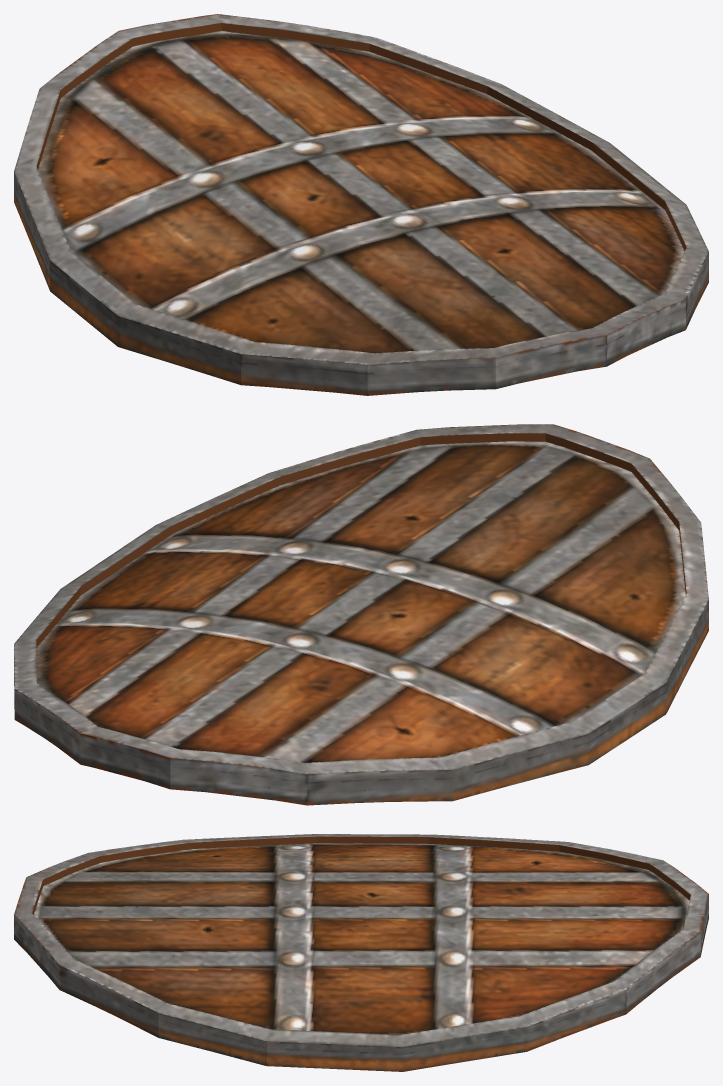
Rendered from item_mm9_10142.glb.
3 views of the same model, one above another, from view 1: azimuth 30°, elevation 25°; view 2: azimuth 150°, elevation 25°; view 3: azimuth 270°, elevation 25° (orthographic). The views are drawn at different scales.
Visible parts, largest first — view 1: d10142; view 2: d10142; view 3: d10142.
Boxes of the visible parts, box(x1,y1,x2,y2) form: d10142: box(14, 14, 708, 395); d10142: box(14, 424, 708, 805); d10142: box(14, 834, 708, 1071).
Bounding box in the file's own units: 54.9 × 7.36 × 75.6.
Materials: 1 (1 with a texture image).
